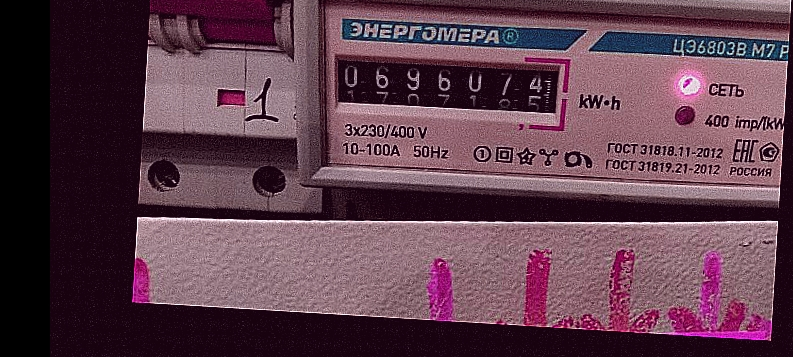0: (339, 62, 360, 88), (466, 66, 484, 93)
4: (527, 69, 545, 94)
5: (526, 93, 542, 112)
6: (372, 62, 393, 90), (434, 67, 453, 92)
7: (495, 69, 515, 96)
9: (402, 65, 423, 91)
screen: (319, 39, 576, 135)
